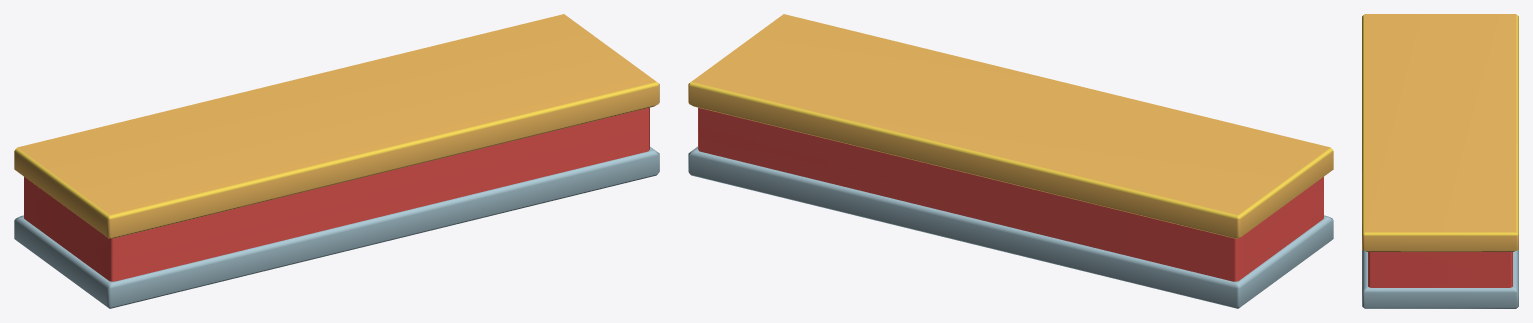
Rendered from Decor_Bantieptan.fbx.
3 renders of one model, left to right at view 1: azimuth 30°, elevation 25°; view 2: azimuth 150°, elevation 25°; view 3: azimuth 270°, elevation 25°, orthographic. The views are drawn at different scales.
Parts seen in each view (by area): view 1: Decor_Bantieptan; view 2: Decor_Bantieptan; view 3: Decor_Bantieptan.
Boxes of the visible parts, box(x1,y1,x2,y2) form: Decor_Bantieptan: box(14, 14, 659, 308); Decor_Bantieptan: box(688, 14, 1333, 308); Decor_Bantieptan: box(1362, 14, 1518, 308).
Size of the model in its own units: 463 by 74.96 by 139.
